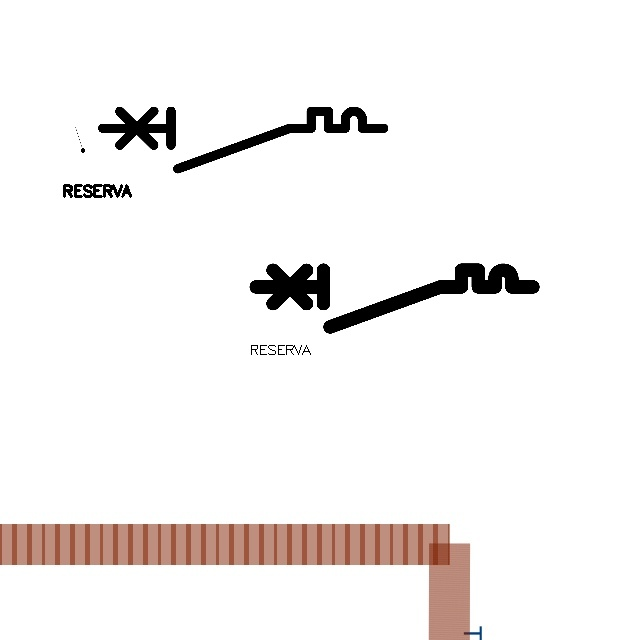interruptor_termomagnetico: (95, 104, 391, 176), (249, 263, 540, 334)
